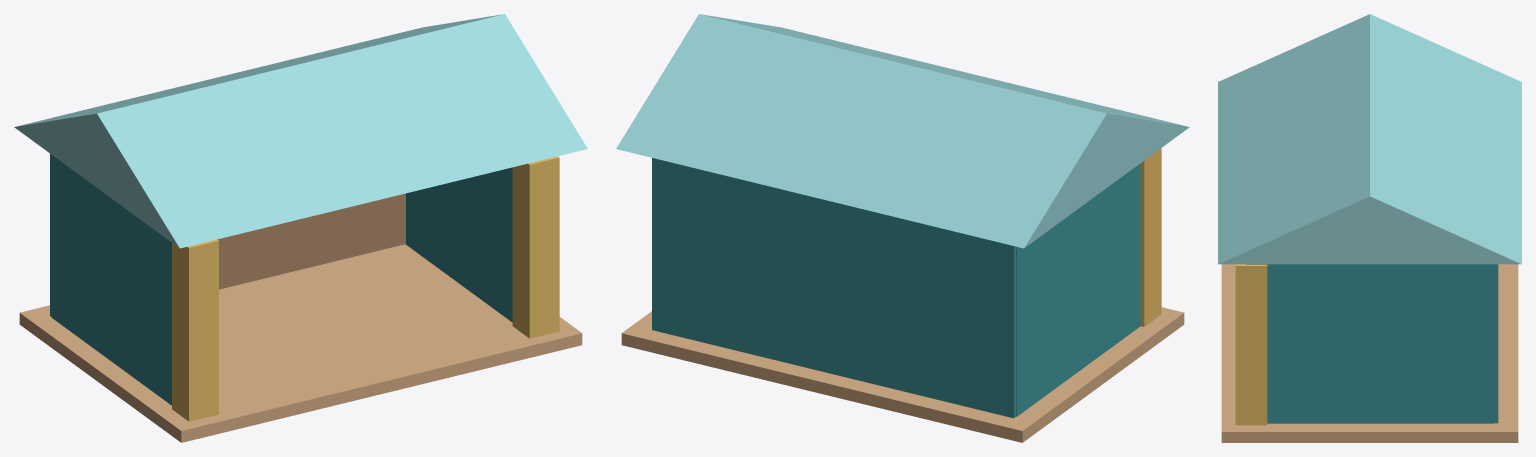
The model's file is env-hangar.glb.
3 views of the same model, side by side, from view 1: azimuth 30°, elevation 25°; view 2: azimuth 150°, elevation 25°; view 3: azimuth 270°, elevation 25° (orthographic). The views are drawn at different scales.
Visible parts, largest first — view 1: hangar roof, hangar foundation, hangar side, hangar side.001, hangar opening, hangar front post.001, hangar front post; view 2: hangar roof, hangar back wall, hangar side, hangar foundation, hangar front post; view 3: hangar roof, hangar side.001, hangar foundation, hangar front post.001, hangar back wall.
Boxes of the visible parts, x1,y1,x2,y2 form: hangar roof: (14,14,587,248); hangar foundation: (19,244,582,442); hangar side: (51,155,171,405); hangar side.001: (405,167,512,322); hangar opening: (217,193,405,289); hangar front post.001: (512,156,559,338); hangar front post: (172,239,218,421); hangar roof: (616,14,1189,248); hangar back wall: (652,158,1016,418); hangar side: (1016,163,1140,416); hangar foundation: (621,307,1184,442); hangar front post: (1140,148,1161,326); hangar roof: (1218,14,1521,264); hangar side.001: (1246,264,1493,423); hangar foundation: (1221,264,1518,442); hangar front post.001: (1235,264,1267,425); hangar back wall: (1493,264,1498,423).
Size of the model in its own units: 5.75 by 3.65 by 4.05.
